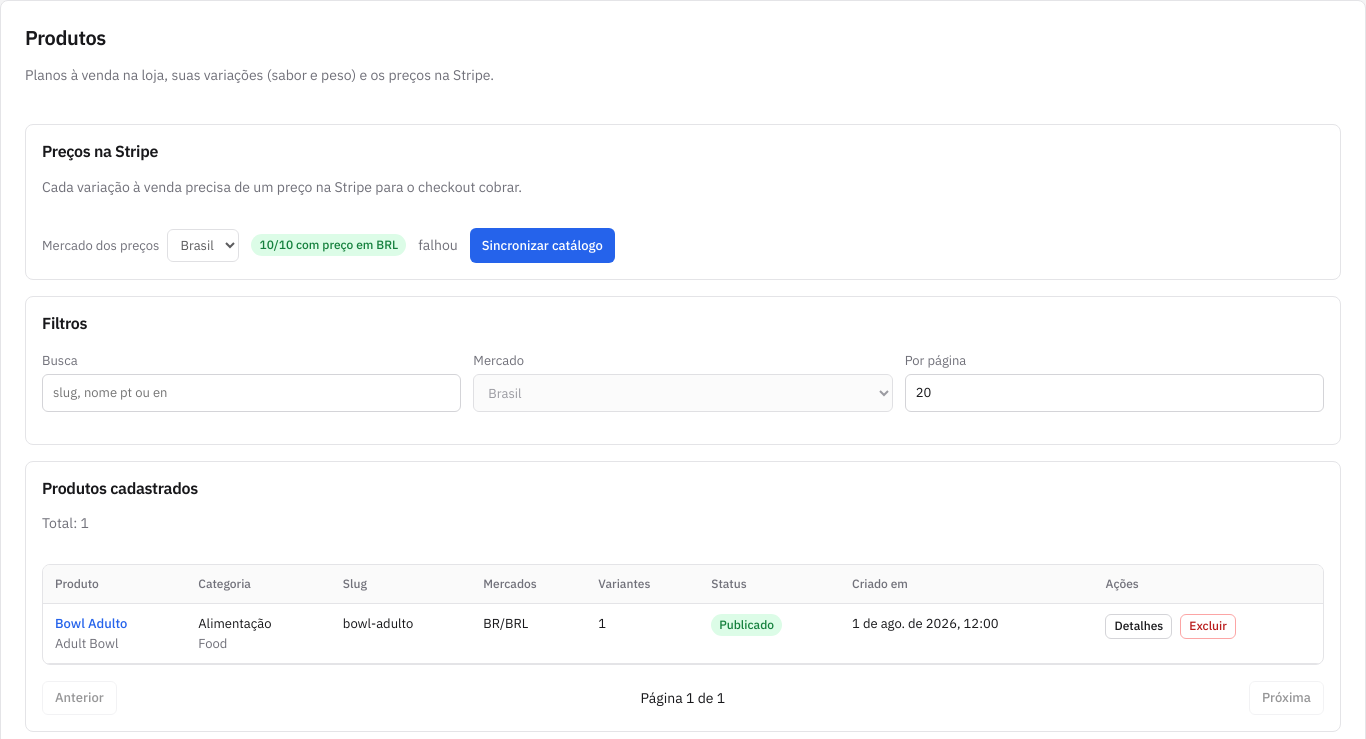
Test: ProductsPage › keeps the row when Stripe archive fails
Click the button with aria-label "Excluir produto Bowl Adulto": [1208, 626] box [1180, 614, 1236, 639]
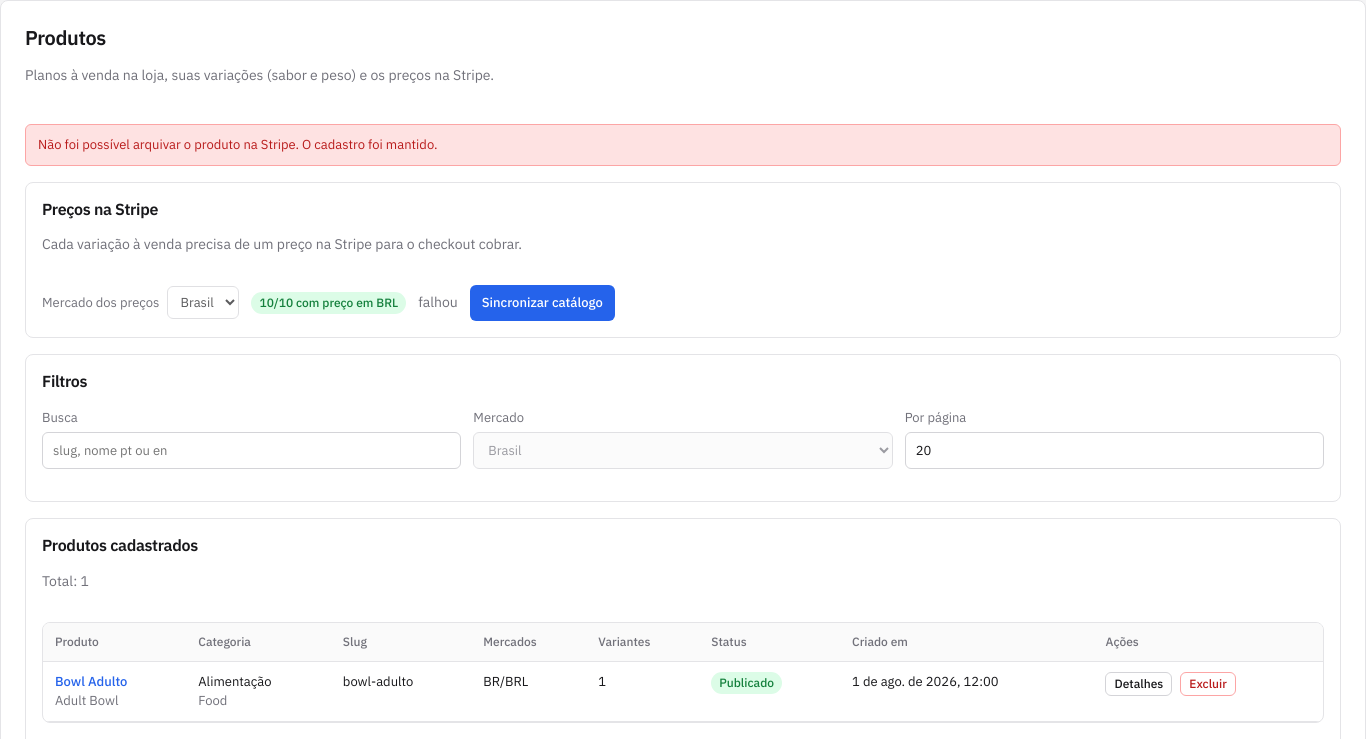
Check: the link "Bowl Adulto" is shown, box [55, 673, 127, 690]
Check: the text "Não foi possível arquivar o produto na Stripe. O cadastro foi mantido." is shown, box [25, 124, 1341, 166]
